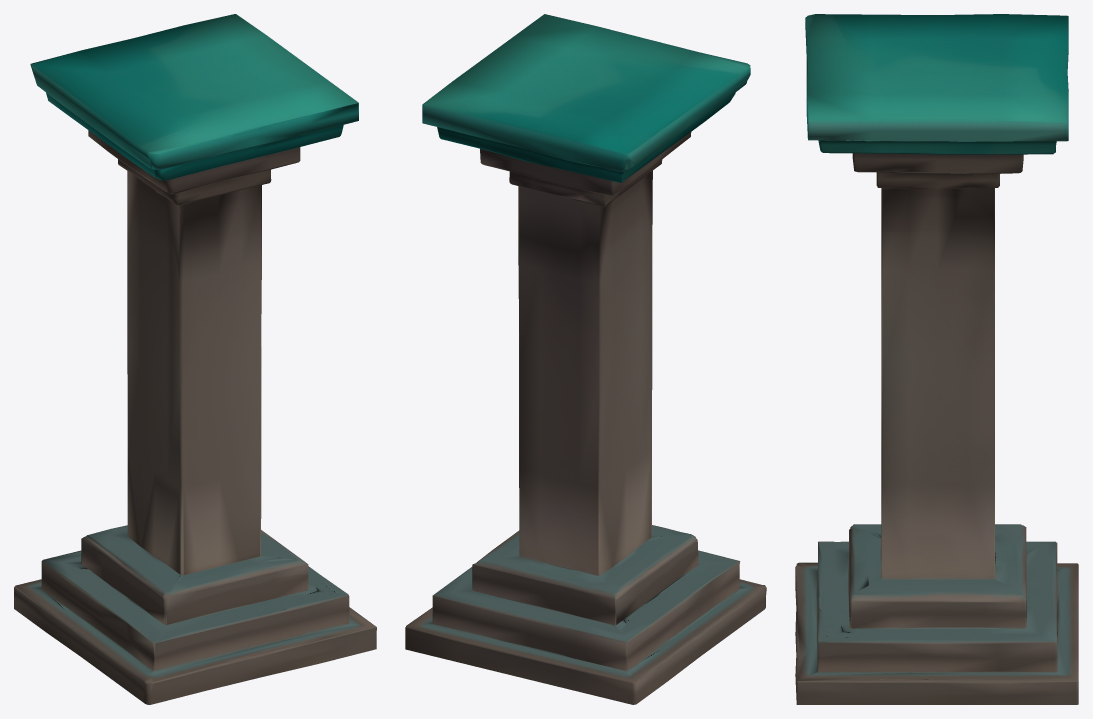
The model's file is pedestal.glb.
3 views of the same model, side by side, from view 1: azimuth 30°, elevation 25°; view 2: azimuth 150°, elevation 25°; view 3: azimuth 270°, elevation 25° (orthographic). The views are drawn at different scales.
Parts seen in each view (by area): view 1: tripo_node_kodyurd-model-75____________________; view 2: tripo_node_kodyurd-model-75____________________; view 3: tripo_node_kodyurd-model-75____________________.
Boxes of the visible parts, <box> form: tripo_node_kodyurd-model-75____________________: <box>14,14,376,704</box>; tripo_node_kodyurd-model-75____________________: <box>405,14,766,704</box>; tripo_node_kodyurd-model-75____________________: <box>795,14,1078,704</box>.
Bounding box in the file's own units: 0.4434 × 0.998 × 0.4434.
Materials: 1 (1 with a texture image).
